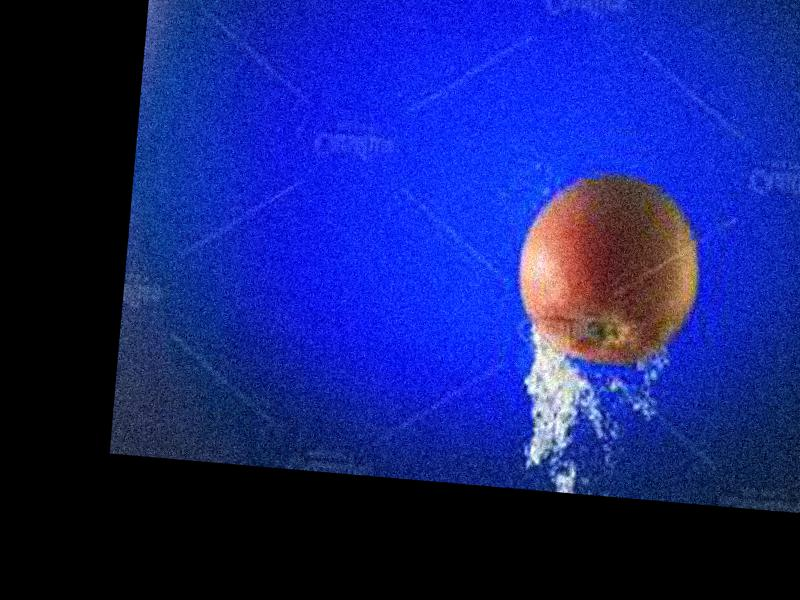Tomato: (512, 173, 708, 371)
